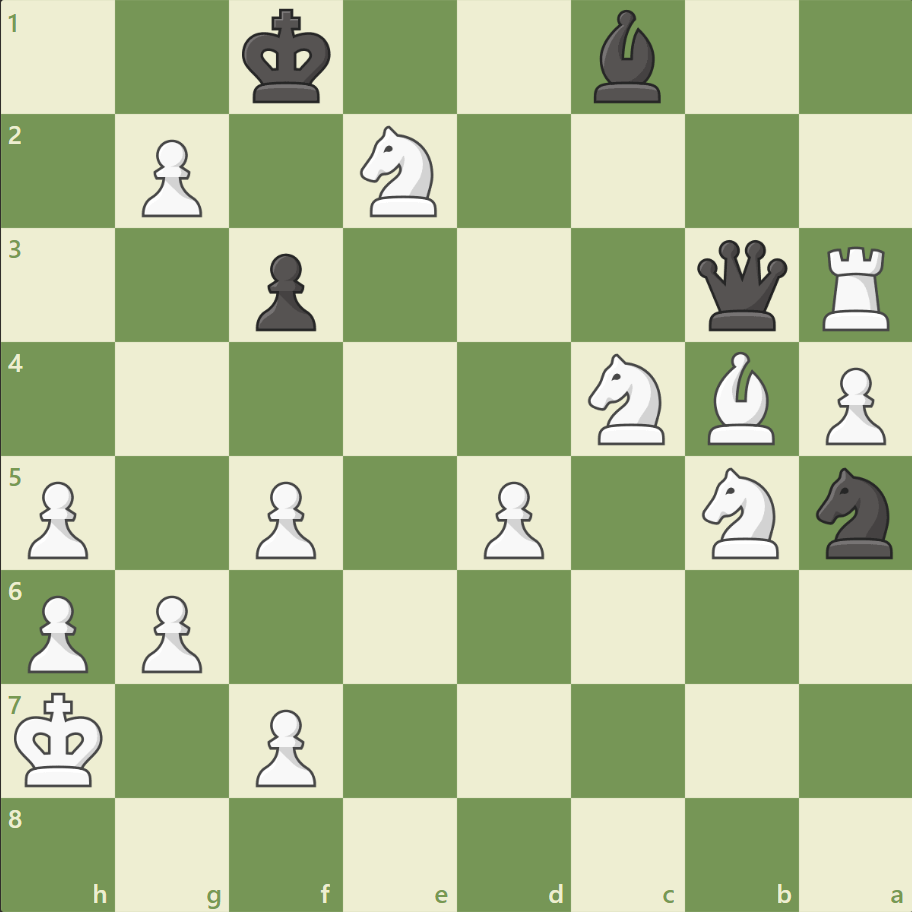B: (698, 347, 782, 449)
K: (11, 685, 111, 793)
N: (351, 121, 449, 223), (692, 461, 789, 564), (579, 348, 676, 450)
P: (247, 700, 322, 791), (133, 586, 208, 677), (20, 586, 95, 677), (474, 473, 549, 564), (247, 473, 322, 564), (20, 473, 95, 564), (133, 132, 208, 223), (815, 359, 889, 450)
R: (814, 239, 897, 336)
b: (585, 6, 669, 109)
k: (238, 4, 338, 112)
n: (806, 461, 903, 564)
p: (247, 246, 322, 337)
q: (691, 236, 790, 335)
